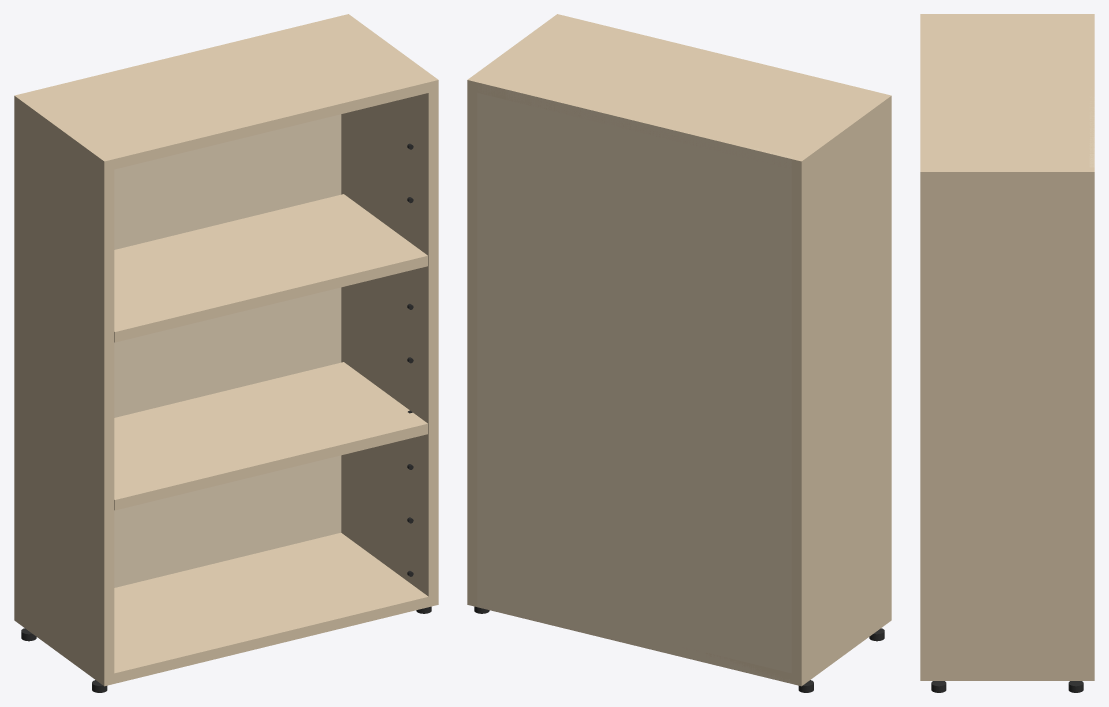
The model's file is Shelf.glb.
3 views of the same model, side by side, from view 1: azimuth 30°, elevation 25°; view 2: azimuth 150°, elevation 25°; view 3: azimuth 270°, elevation 25° (orthographic). The views are drawn at different scales.
Visible parts, largest first — view 1: Shelf_Back, Shelf_Side_Left, Shelf_Side_Right, Shelf_Top, Shelf_Bottom, Shelf_Mid_2, Shelf_Mid_1; view 2: Shelf_Back, Shelf_Side_Left, Shelf_Top, Shelf_Side_Right, Shelf_Bottom; view 3: Shelf_Side_Right, Shelf_Top.
Boxes of the visible parts, <box> form: Shelf_Back: <box>114,114,341,587</box>; Shelf_Side_Left: <box>14,96,114,686</box>; Shelf_Side_Right: <box>341,80,438,606</box>; Shelf_Top: <box>14,14,438,171</box>; Shelf_Bottom: <box>114,533,428,683</box>; Shelf_Mid_2: <box>114,194,427,342</box>; Shelf_Mid_1: <box>114,362,427,510</box>; Shelf_Back: <box>477,82,792,683</box>; Shelf_Side_Left: <box>791,96,891,686</box>; Shelf_Top: <box>467,14,891,171</box>; Shelf_Side_Right: <box>467,80,477,606</box>; Shelf_Bottom: <box>479,606,791,683</box>; Shelf_Side_Right: <box>920,167,1094,680</box>; Shelf_Top: <box>920,14,1094,182</box>.
Size of the model in its own units: 0.606 by 0.92 by 0.28.
